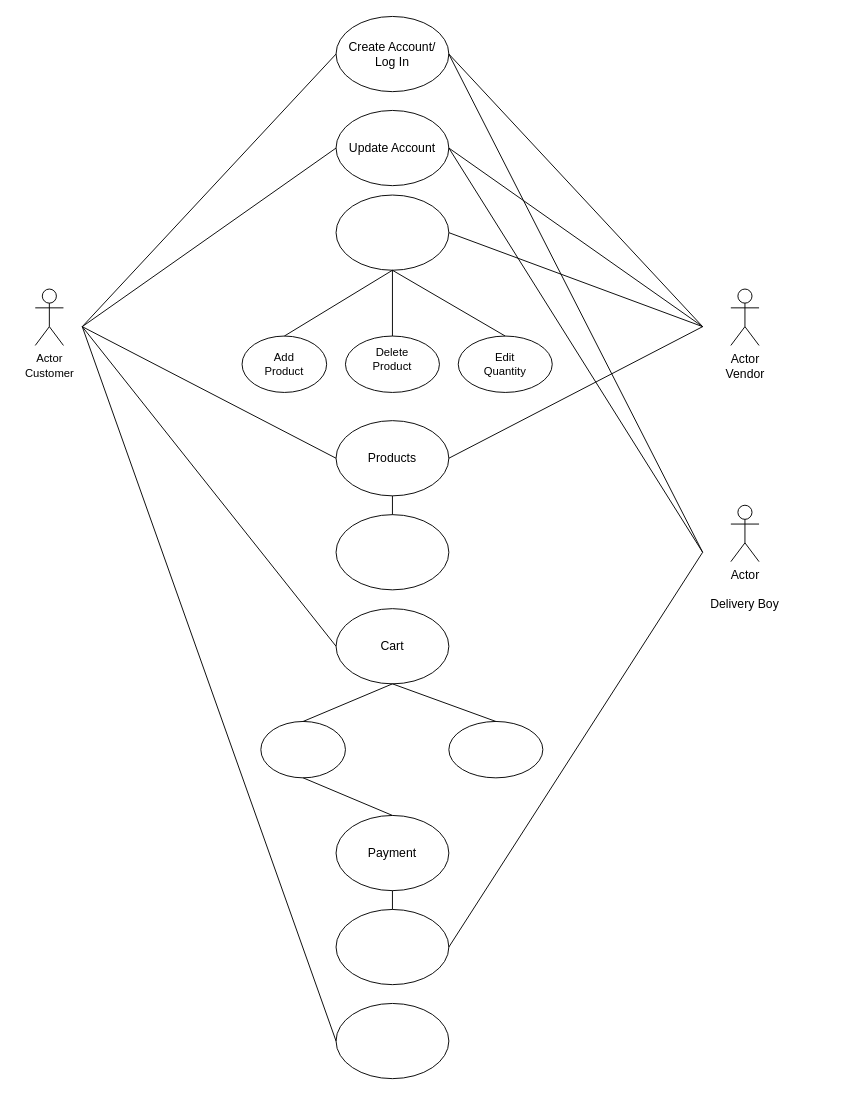
Some shapes in this 850 by 1095 pixel diagram are drawn without their labels. Here are the shapes that lost their labels. From the top down, the centre of each, then its label:
the point at 392,232: Product Operation
the point at 392,552: Add to Cart
the point at 302,749: Place Order
the point at 495,749: Remove From Cart
the point at 392,947: Shipment Details
the point at 392,1041: Feedback
